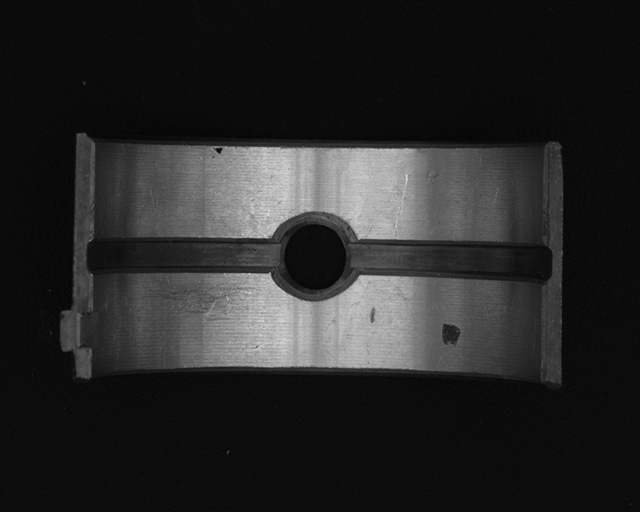blot: (441, 323, 461, 347), (211, 146, 223, 159)
bruise: (370, 307, 377, 324)
gap: (347, 241, 551, 286), (87, 238, 280, 270)
hole: (273, 213, 352, 298)
nick: (394, 174, 410, 237)
scratch: (134, 282, 261, 314)
